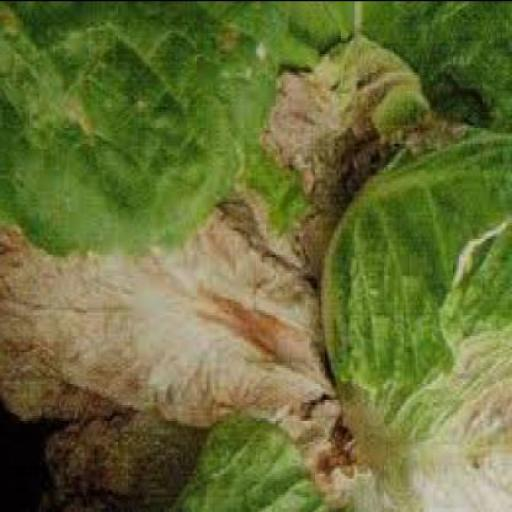biodegradable: (319, 118, 511, 510), (1, 1, 294, 254), (295, 1, 511, 132), (174, 417, 334, 510)
